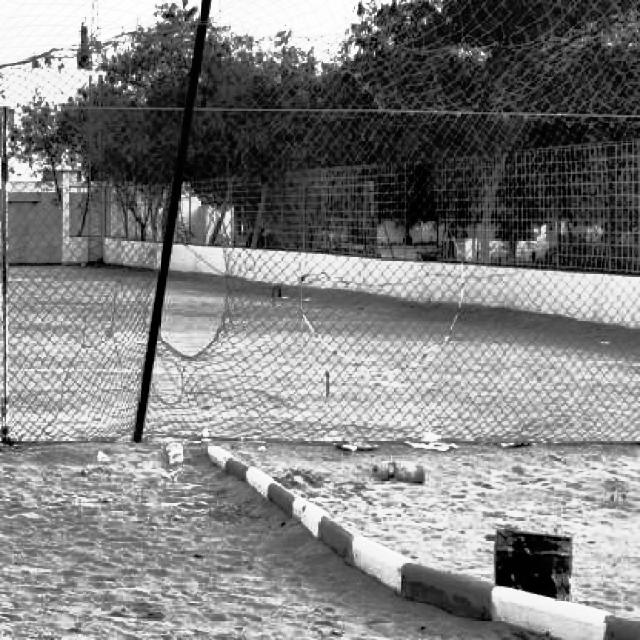anomaly-fence: (117, 116, 255, 416)
